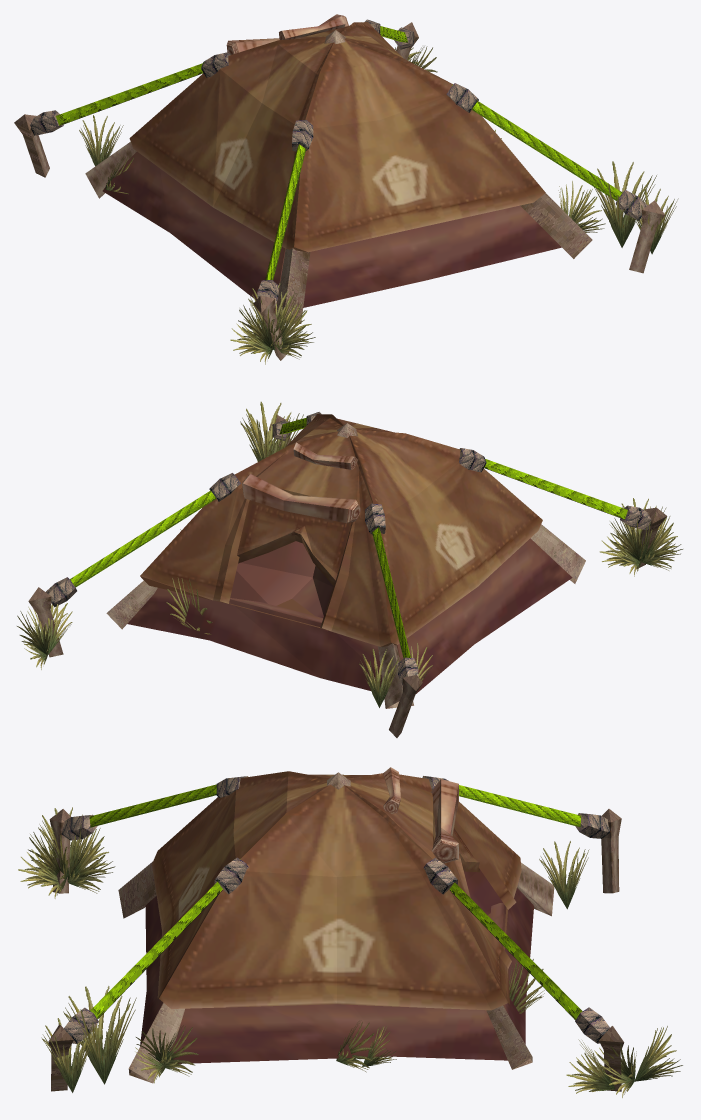
The model's file is C1SMTUNDRATENT3H.obj.
3 renders of one model, top to bottom at view 1: azimuth 30°, elevation 25°; view 2: azimuth 150°, elevation 25°; view 3: azimuth 270°, elevation 25°, orthographic. The views are drawn at different scales.
Visible parts, largest first — view 1: Node 2, Node 0, Node 3, Node 5, Node 4, Node 7, Node 6; view 2: Node 2, Node 0, Node 7, Node 6, Node 3, Node 4, Node 5; view 3: Node 2, Node 0, Node 6, Node 3, Node 5, Node 7, Node 4.
Boxes of the visible parts, x1,y1,x2,y2 form: Node 2: (79,22,678,360); Node 0: (105,22,656,364); Node 3: (14,62,204,177); Node 5: (446,83,647,220); Node 4: (265,120,313,280); Node 7: (226,14,348,54); Node 6: (365,19,414,49); Node 2: (24,409,666,708); Node 0: (17,401,682,680); Node 7: (242,442,361,523); Node 6: (46,473,240,607); Node 3: (372,526,422,737); Node 4: (459,448,627,519); Node 5: (272,412,321,440); Node 2: (41,771,682,1092); Node 0: (18,807,636,1097); Node 6: (423,857,609,1043); Node 3: (459,785,621,893); Node 5: (64,857,248,1043); Node 7: (383,767,458,863); Node 4: (89,776,248,827).
Bounding box in the file's own units: 9.3 × 3.82 × 10.46.
13 materials, 13 textured.
